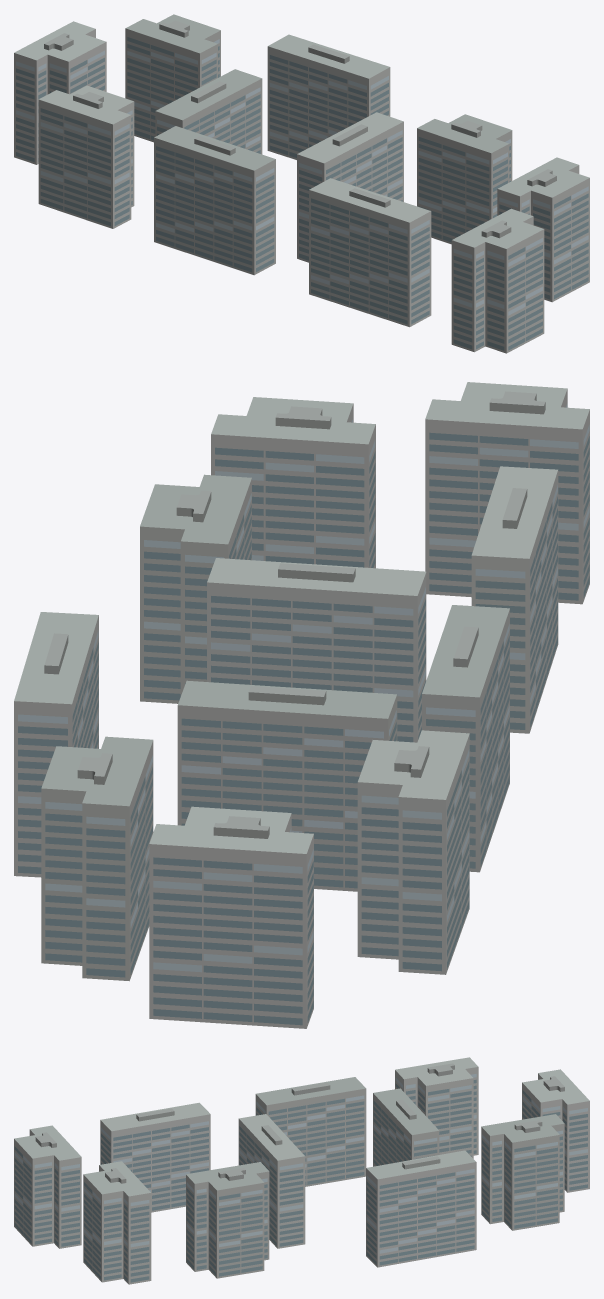
Rendered from apt-a13923106.glb.
3 views of the same model, one above another, from view 1: azimuth 30°, elevation 25°; view 2: azimuth 150°, elevation 25°; view 3: azimuth 270°, elevation 25° (orthographic). The views are drawn at different scales.
Visible parts, largest first — view 1: apt-a13923106; view 2: apt-a13923106; view 3: apt-a13923106.
Boxes of the visible parts, x1,y1,x2,y2 form: apt-a13923106: (14, 14, 589, 353); apt-a13923106: (14, 382, 589, 1028); apt-a13923106: (14, 1057, 589, 1284).
Bounding box in the file's own units: 129 × 40 × 226.
